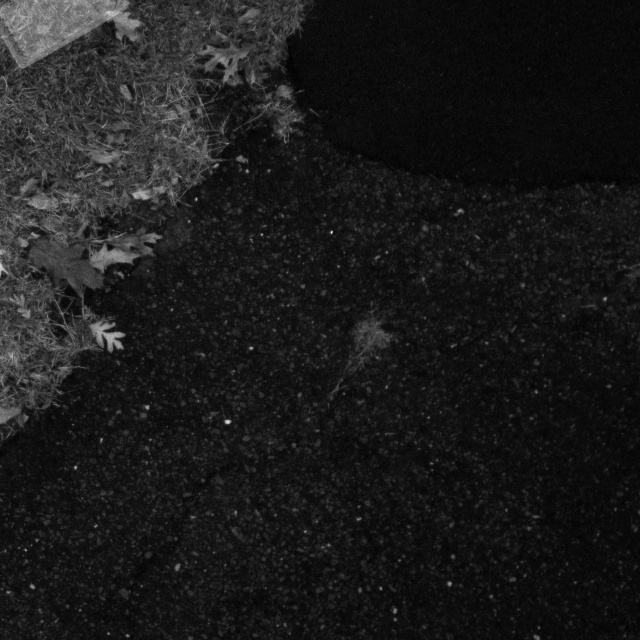container: (0, 0, 138, 75)
